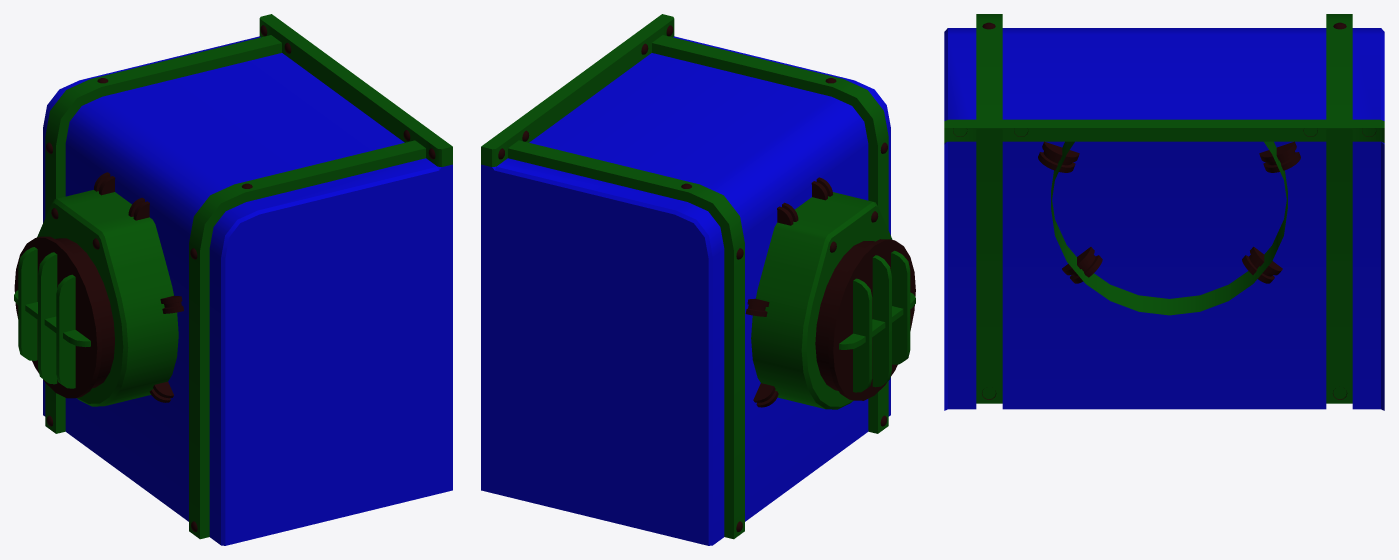
The model's file is SM_SewerTube01.FBX.
The picture shows the model from 3 angles, left to right: view 1: azimuth 30°, elevation 25°; view 2: azimuth 150°, elevation 25°; view 3: azimuth 270°, elevation 25°; orthographic projection. The views are drawn at different scales.
Parts seen in each view (by area): view 1: Cylinder042; view 2: Cylinder042; view 3: Cylinder042.
Part boxes in pixels (box(x1,y1,x2,y2)): Cylinder042: box(14, 14, 452, 545); Cylinder042: box(481, 14, 915, 545); Cylinder042: box(944, 14, 1384, 410).
Size of the model in its own units: 1187 by 1215 by 1160.
